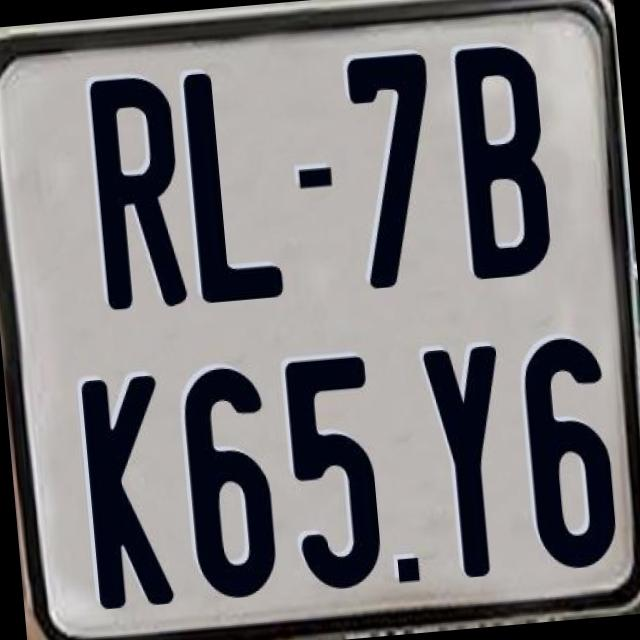5: (284, 351, 388, 594)
6: (518, 332, 626, 577), (175, 360, 281, 602)
7: (341, 51, 443, 292)
B: (453, 41, 558, 280)
K: (77, 370, 179, 610)
L: (178, 68, 287, 304)
R: (85, 70, 186, 311)
Y: (418, 344, 518, 584)
